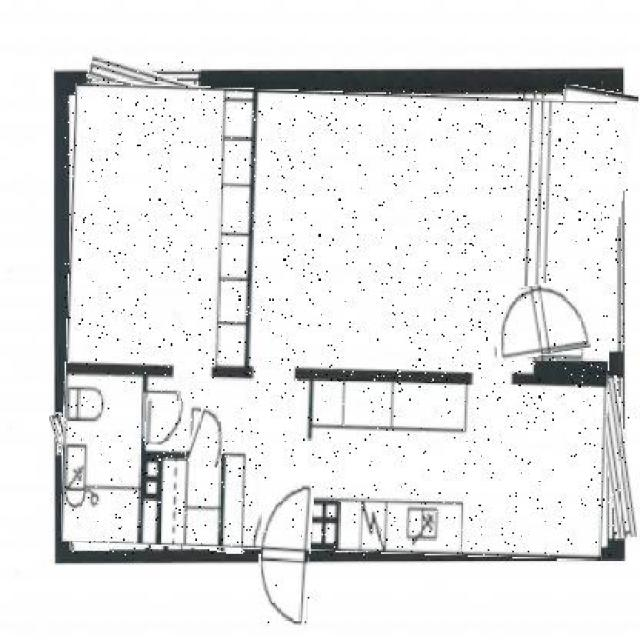door: (258, 477, 311, 631), (491, 281, 589, 357), (189, 409, 229, 466), (146, 400, 185, 445)
window: (602, 376, 630, 538), (88, 62, 197, 100), (52, 414, 71, 454)
zone: (65, 88, 612, 555), (530, 88, 628, 349), (66, 378, 149, 551), (150, 460, 252, 551)
